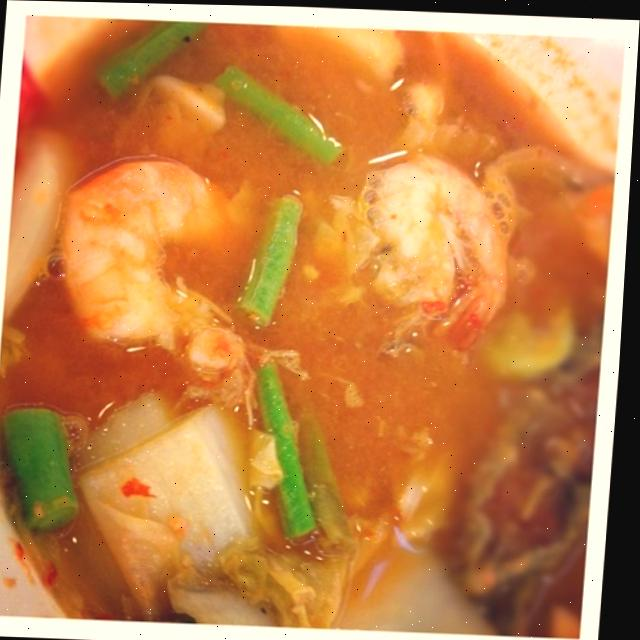汤锅炖物: (0, 24, 620, 631)
